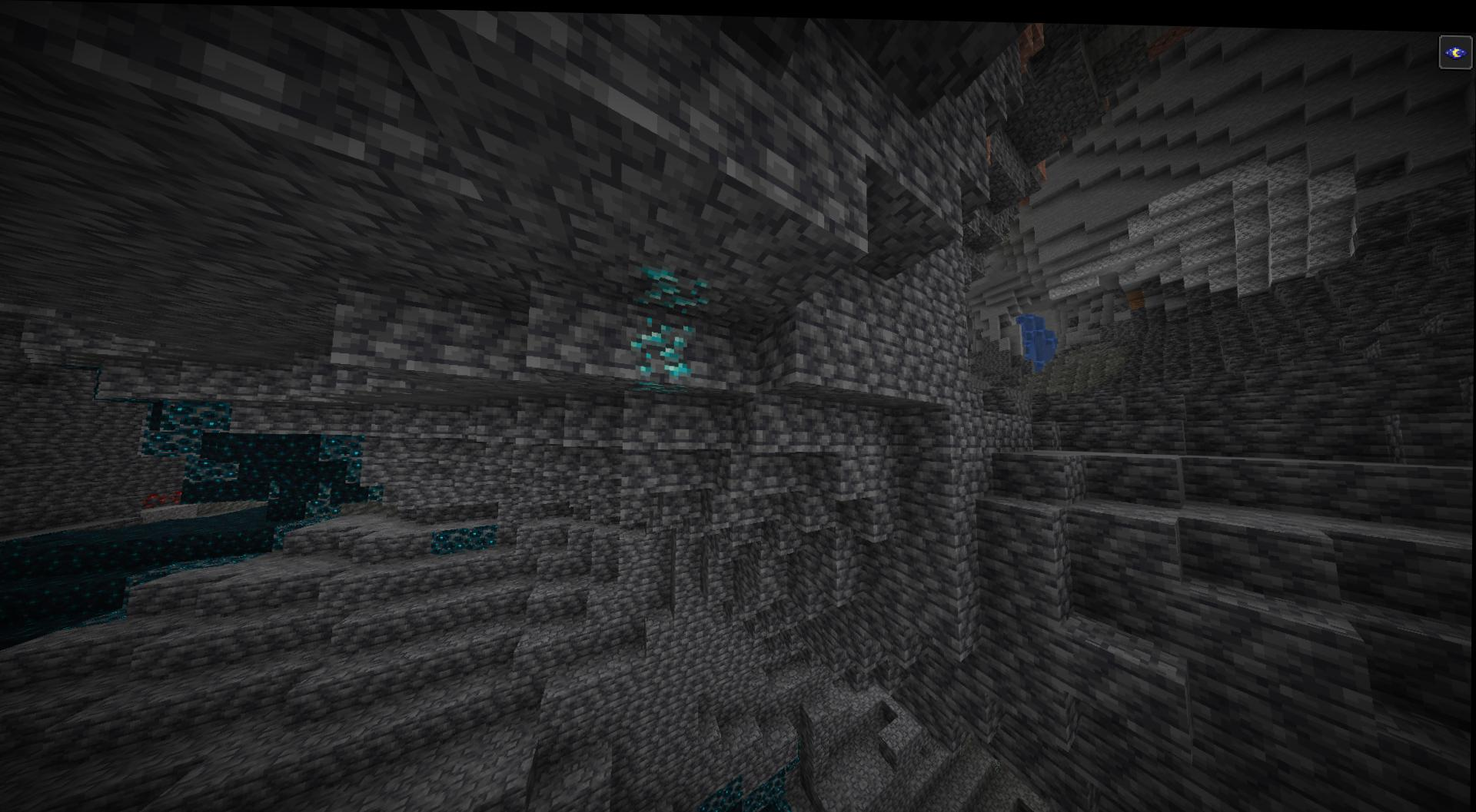diamond ore: (632, 312, 696, 388), (637, 258, 709, 313)
redstone ore: (143, 483, 185, 511)
